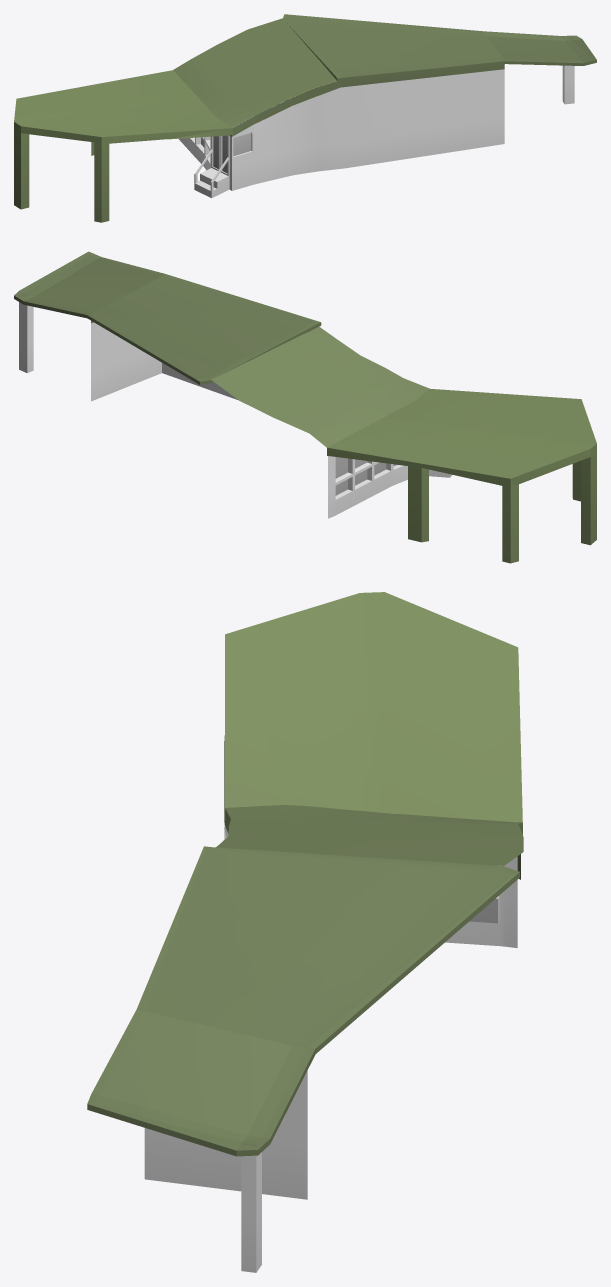
File: WE02_House_Detailed.fbx
3 views of the same model, one above another, from view 1: azimuth 30°, elevation 25°; view 2: azimuth 150°, elevation 25°; view 3: azimuth 270°, elevation 25° (orthographic). The views are drawn at different scales.
Visible parts, largest first — view 1: pPlane2; view 2: pPlane2; view 3: pPlane2.
Boxes of the visible parts, box(x1,y1,x2,y2) form: pPlane2: box(14, 14, 596, 222); pPlane2: box(14, 251, 596, 563); pPlane2: box(87, 592, 523, 1272).
Size of the model in its own units: 78.48 by 13.01 by 27.92.
